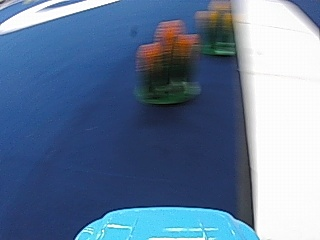corn: (133, 20, 200, 108), (197, 5, 236, 55)
